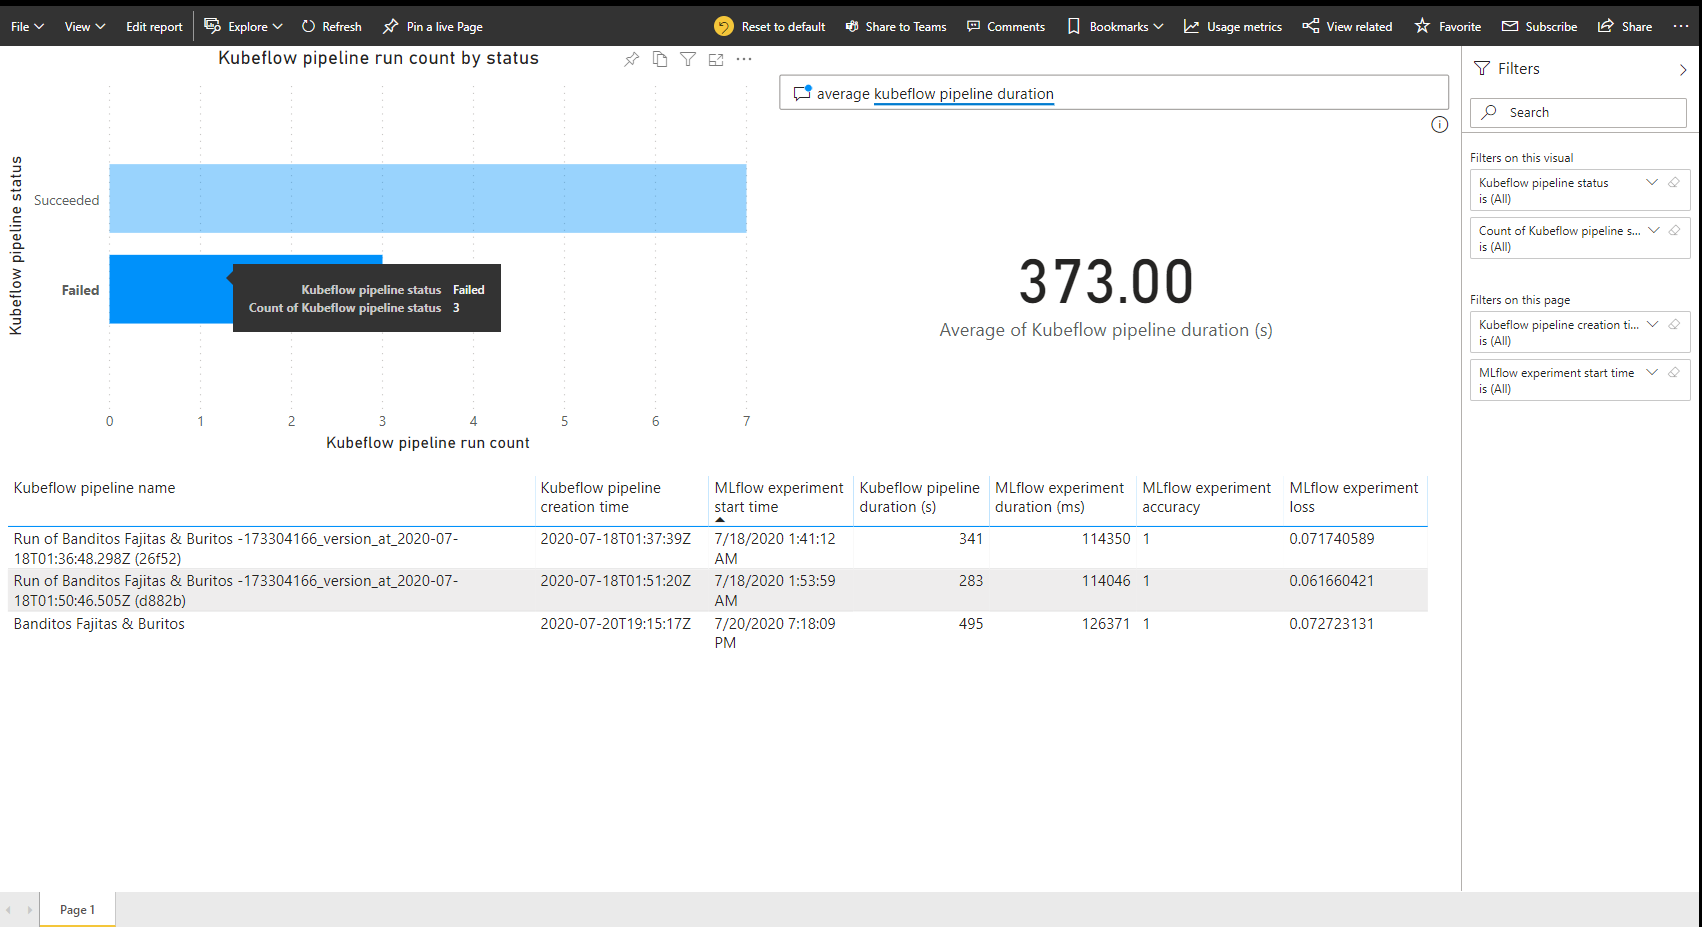

The dashboard page shown, as its layout file describes it:
{"tool":"powerbi","page":{"name":"Page 1","canvas":[1280,720],"ordinal":0},"visuals":[{"type":"barChart","title":"Kubeflow pipeline run count by status","fields":{"Category":["KFP_MLF Runs.kfp.status"],"Y":["CountNonNull(KFP_MLF Runs.kfp.status)"]},"box":[0,0,663.4,360],"z":0},{"type":"tableEx","fields":{"Values":["KFP_MLF Runs.Kubeflow pipeline name","KFP_MLF Runs.Kubeflow pipeline URL","KFP_MLF Runs.MLflow experiment URL","KFP_MLF Runs.kfp.created_at","KFP_MLF Runs.MLflow experiment start time","KFP_MLF Runs.Kubeflow pipeline duration (s)","KFP_MLF Runs.MLflow experiment duration (ms)","KFP_MLF Runs.get.accuracy","KFP_MLF Runs.get.loss"]},"box":[1.1,371.3,1278.9,349],"z":1000},{"type":"textbox","box":[673,0,607,360],"z":2000},{"type":"qnaVisual","box":[673.3,0,605.3,348.7],"z":3000}]}

Visuals, with their boxes in screenshot pixels (x1, y1, x2, y2):
"Kubeflow pipeline run count by status" barChart: 129 40 940 480
tableEx - KFP_MLF Runs.Kubeflow pipeline name x KFP_MLF Runs.Kubeflow pipeline URL: 130 494 1695 921
textbox: 952 40 1695 480
qnaVisual: 953 40 1693 467
